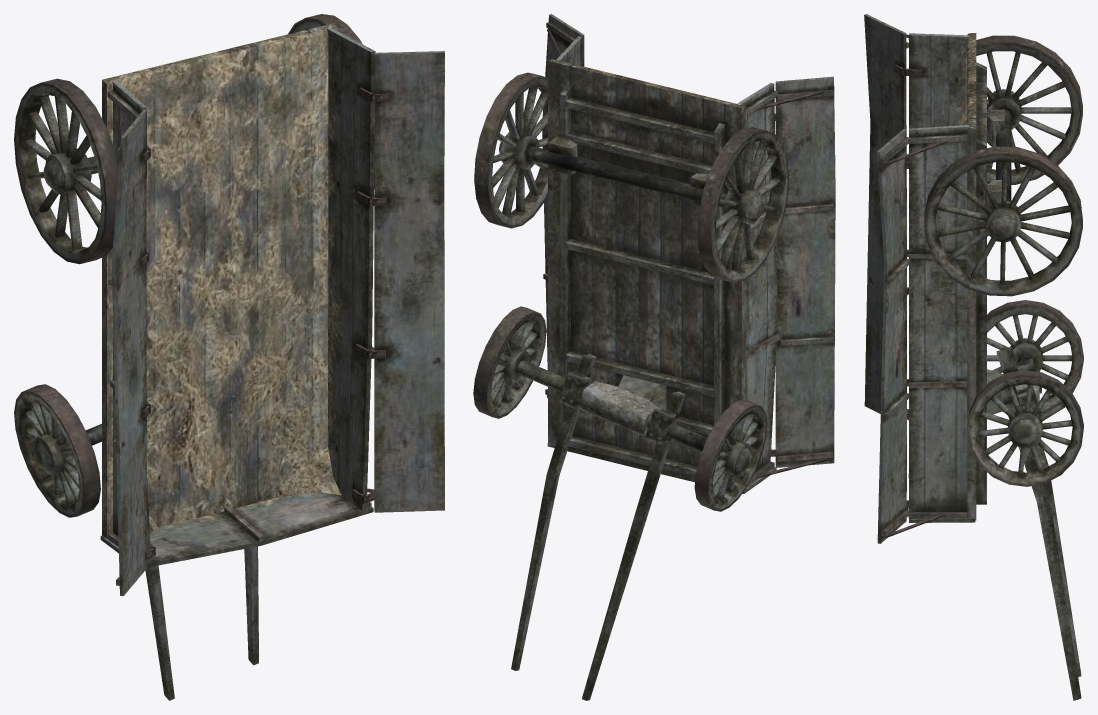
The model's file is haycart.glb.
3 renders of one model, left to right at view 1: azimuth 30°, elevation 25°; view 2: azimuth 150°, elevation 25°; view 3: azimuth 270°, elevation 25°, orthographic. The views are drawn at different scales.
Size of the model in its own units: 109 by 211 by 70.92.
Materials: 1 (1 with a texture image).
